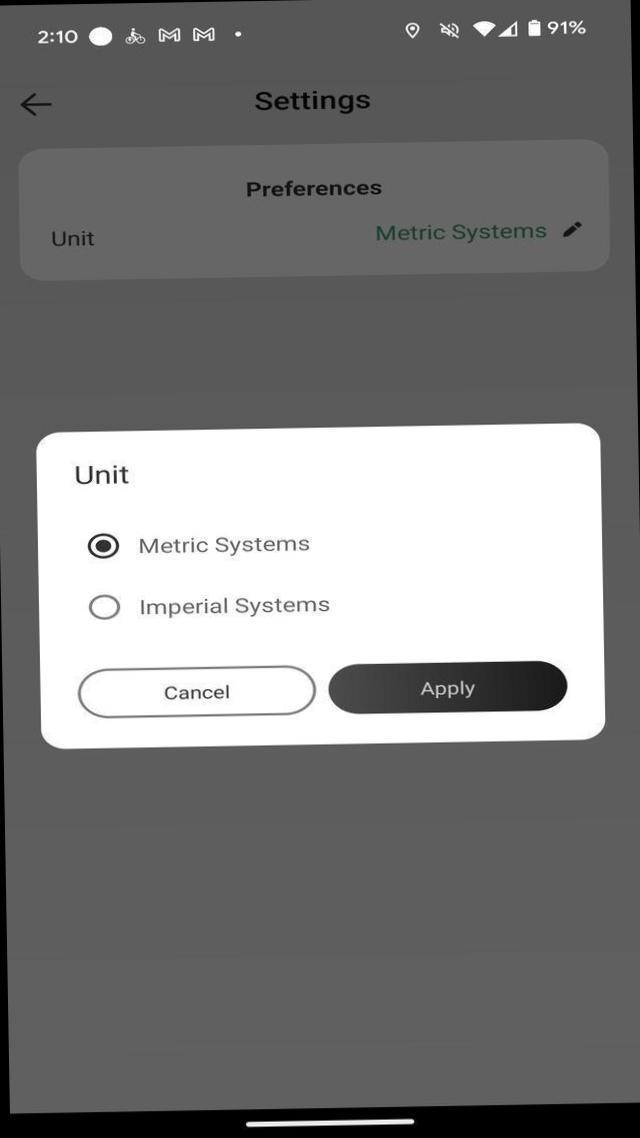Icon: (85, 532, 122, 564), (86, 591, 120, 624), (19, 93, 54, 124), (86, 24, 114, 48), (434, 19, 462, 43), (468, 16, 496, 40), (560, 219, 584, 243), (123, 26, 147, 46), (190, 25, 215, 44), (497, 18, 519, 38), (157, 25, 180, 44), (524, 15, 540, 40), (405, 23, 420, 44), (232, 26, 241, 42)
Text: (136, 590, 336, 622), (130, 530, 314, 560), (368, 218, 552, 247), (235, 175, 388, 205), (248, 87, 379, 118), (67, 458, 136, 491), (414, 675, 484, 704), (161, 678, 235, 704), (43, 220, 102, 252), (544, 17, 586, 41), (34, 26, 80, 47)
TextButton: (74, 662, 319, 719), (326, 660, 568, 716)
